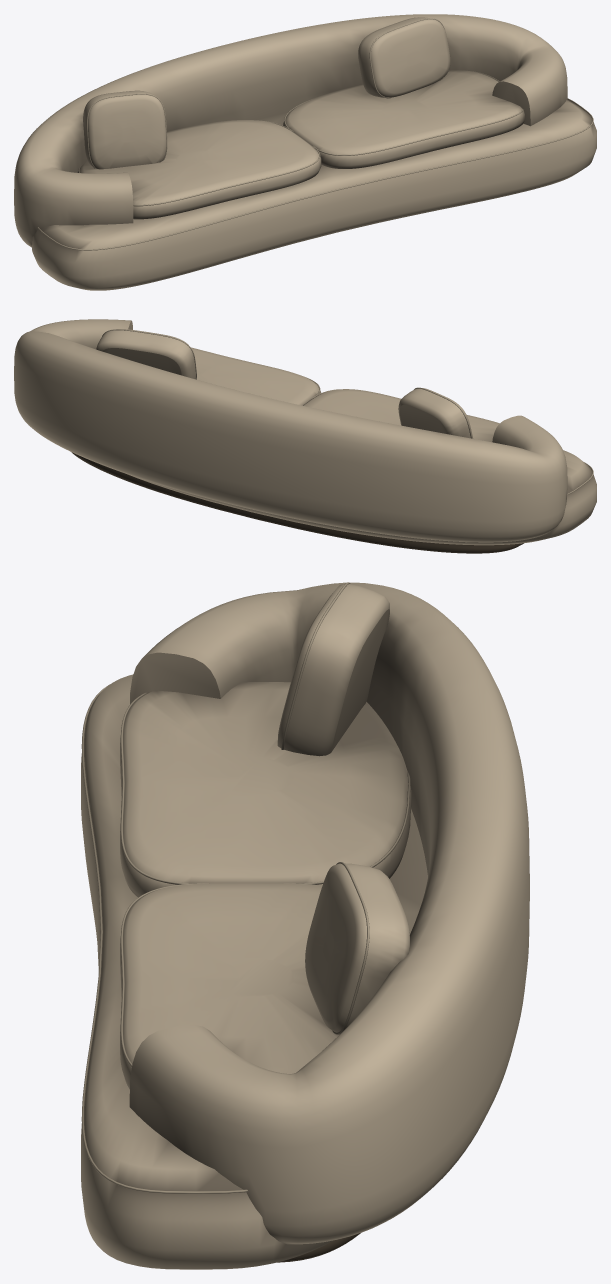
Rendered from arc-sofa.glb.
3 renders of one model, top to bottom at view 1: azimuth 30°, elevation 25°; view 2: azimuth 150°, elevation 25°; view 3: azimuth 270°, elevation 25°, orthographic. The views are drawn at different scales.
Visible parts, largest first — view 1: arc-sofa; view 2: arc-sofa; view 3: arc-sofa.
Boxes of the visible parts, <box> form: arc-sofa: <box>14,14,596,290</box>; arc-sofa: <box>14,319,596,553</box>; arc-sofa: <box>81,582,529,1269</box>.
Bounding box in the file's own units: 3.36 × 0.8766 × 1.21.
